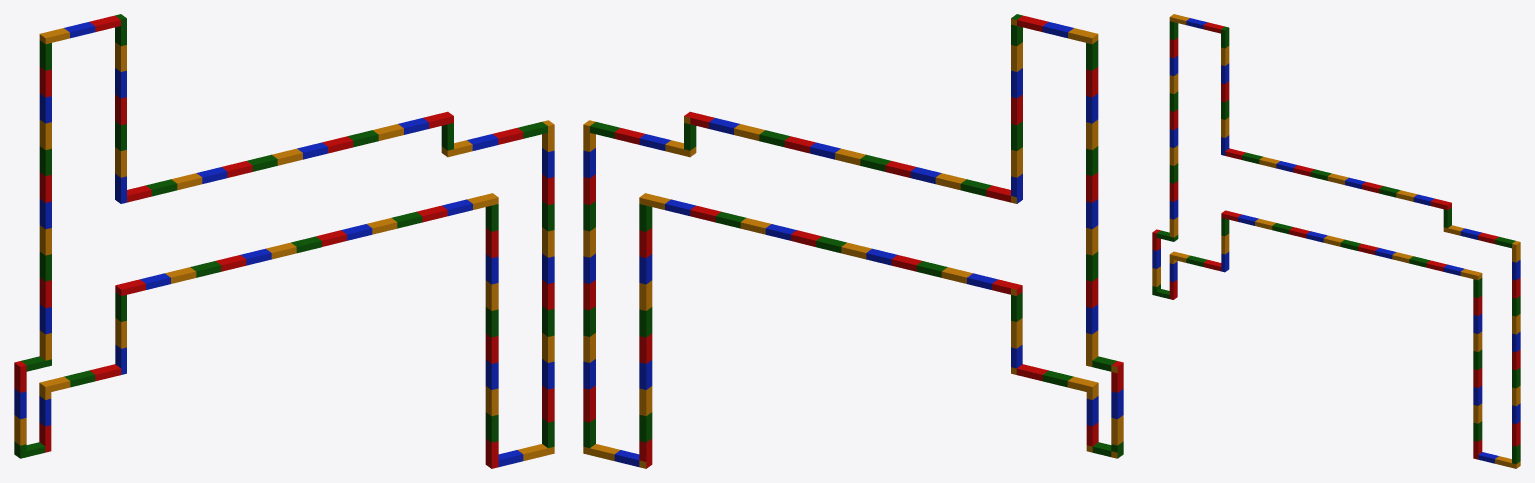
Rendered from internal_borders.obj.
3 views of the same model, side by side, from view 1: azimuth 30°, elevation 25°; view 2: azimuth 150°, elevation 25°; view 3: azimuth 330°, elevation 25° (orthographic). The views are drawn at different scales.
Visible parts, largest first — view 1: Object.1; view 2: Object.1; view 3: Object.1.
Part boxes in pixels (box(x1,y1,x2,y2)): Object.1: box(14, 14, 554, 468); Object.1: box(583, 14, 1123, 468); Object.1: box(1152, 14, 1520, 468).
Size of the model in its own units: 14.99 by 14.47 by 0.296.
